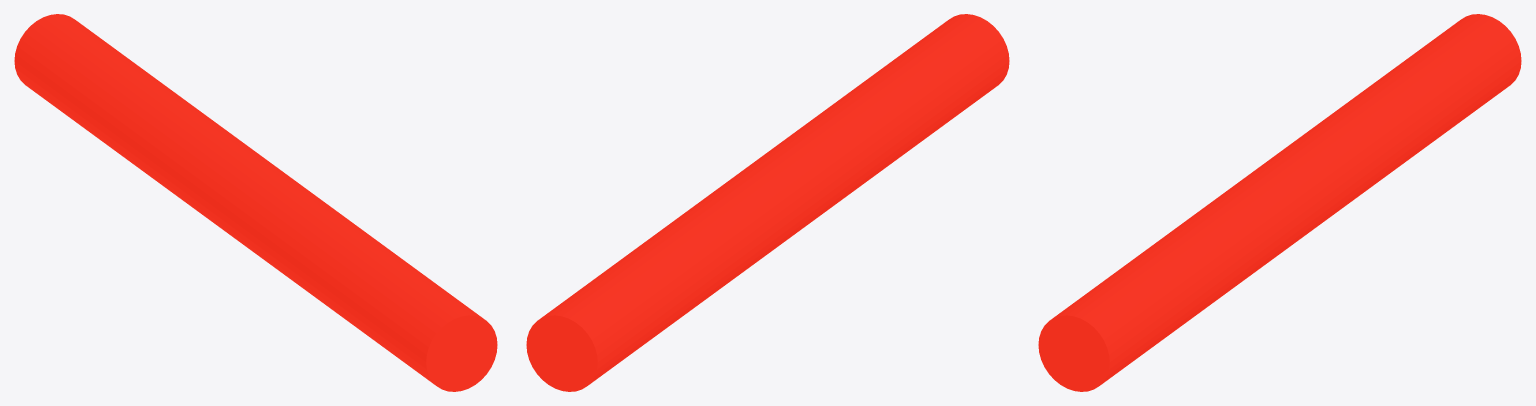
File: laser.glb
3 renders of one model, left to right at view 1: azimuth 30°, elevation 25°; view 2: azimuth 150°, elevation 25°; view 3: azimuth 330°, elevation 25°, orthographic.
Parts seen in each view (by area): view 1: Laser; view 2: Laser; view 3: Laser.
Part boxes in pixels (bbox=[...]): Laser: bbox=[14, 14, 497, 391]; Laser: bbox=[526, 14, 1009, 391]; Laser: bbox=[1038, 14, 1521, 391].
Bounding box in the file's own units: 0.1 × 0.1 × 1.
